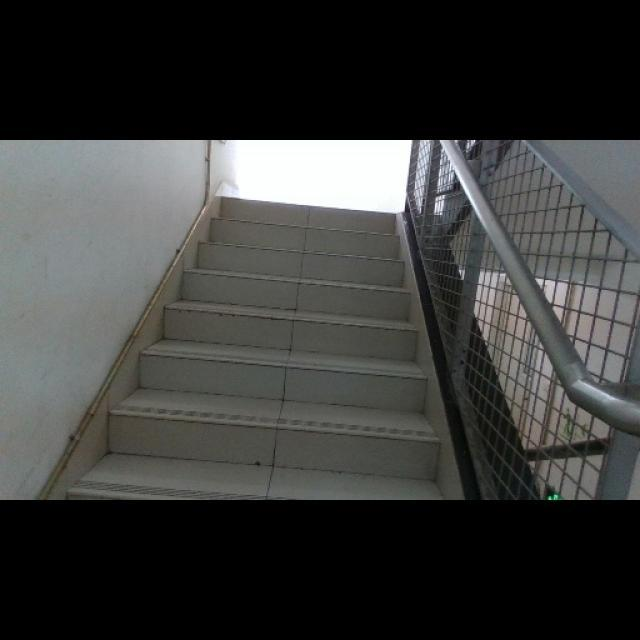stair: (130, 177, 424, 490)
